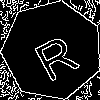R: (27, 25, 81, 83)
